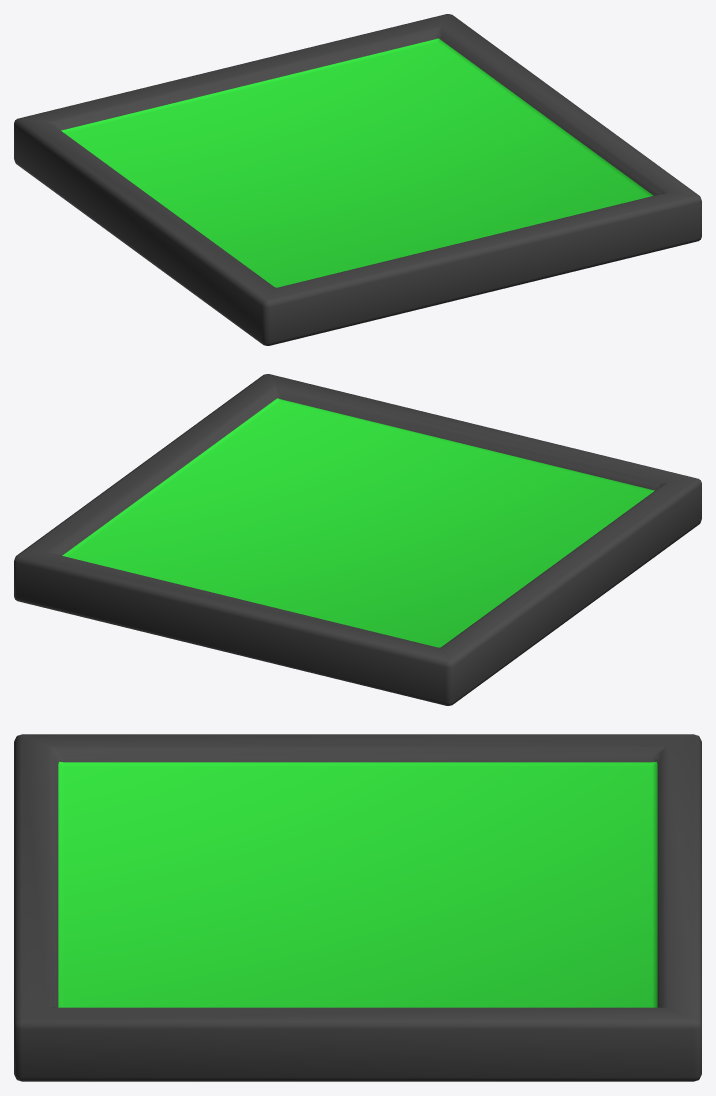
File: NormalTile.fbx
3 renders of one model, top to bottom at view 1: azimuth 30°, elevation 25°; view 2: azimuth 150°, elevation 25°; view 3: azimuth 270°, elevation 25°, orthographic. The views are drawn at different scales.
Visible parts, largest first — view 1: NormalTile; view 2: NormalTile; view 3: NormalTile.
Part boxes in pixels (x1,y1,x2,y2): NormalTile: (14,14,701,345); NormalTile: (14,374,701,705); NormalTile: (14,734,701,1081).
Bounding box in the file's own units: 200 × 20 × 200.
